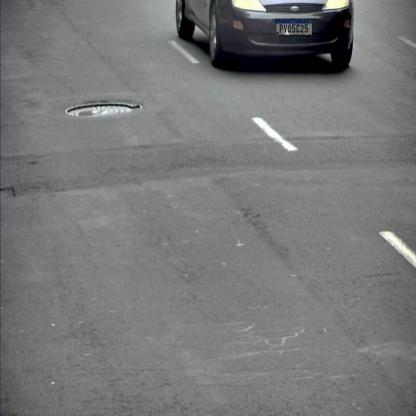PlacaM: (276, 19, 312, 35)
